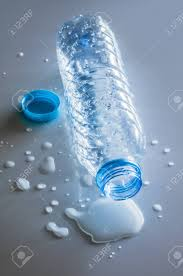Botella: (57, 15, 145, 202)
